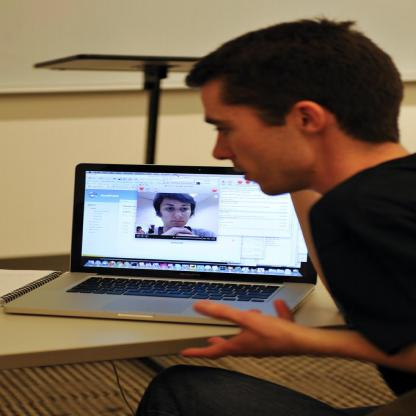board: (3, 161, 324, 323)
